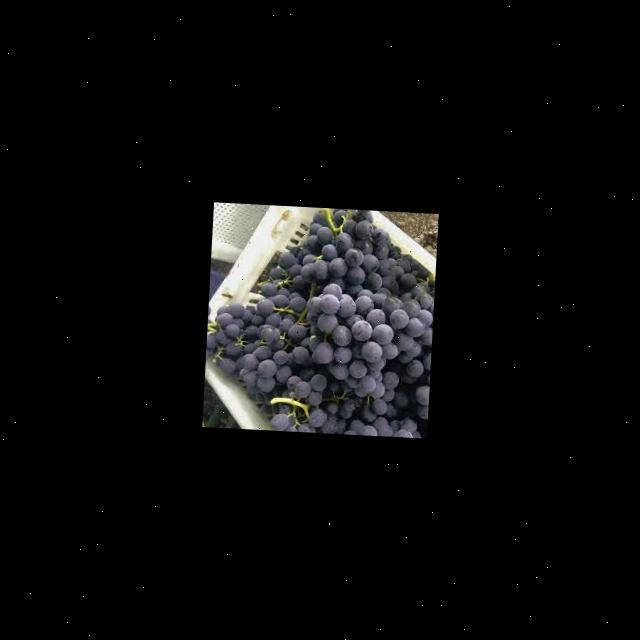grape: (202, 203, 437, 438)
